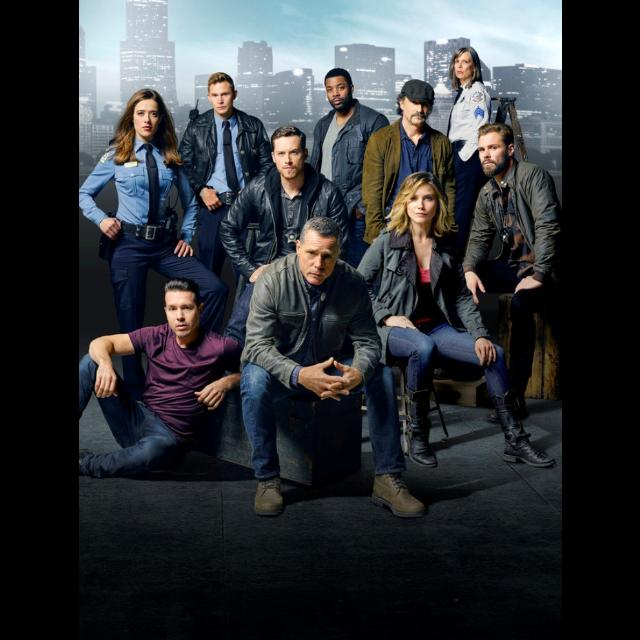head: (295, 216, 343, 286), (163, 281, 205, 341), (399, 172, 441, 226), (476, 124, 516, 176), (270, 126, 308, 180), (129, 89, 165, 141), (398, 82, 434, 128), (206, 72, 238, 116), (324, 68, 356, 112), (454, 46, 478, 80)
person: (343, 168, 561, 474), (235, 213, 433, 525), (78, 86, 232, 424), (218, 122, 352, 452), (78, 272, 268, 486), (172, 70, 282, 364), (358, 76, 462, 382), (302, 65, 394, 359), (440, 44, 494, 286)
